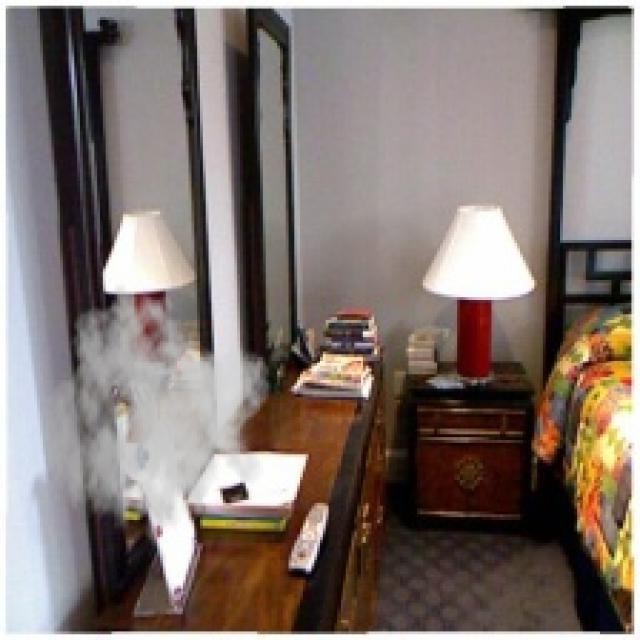Smoke: (40, 283, 272, 563)
